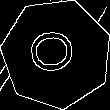O_E: (28, 29, 85, 79)
